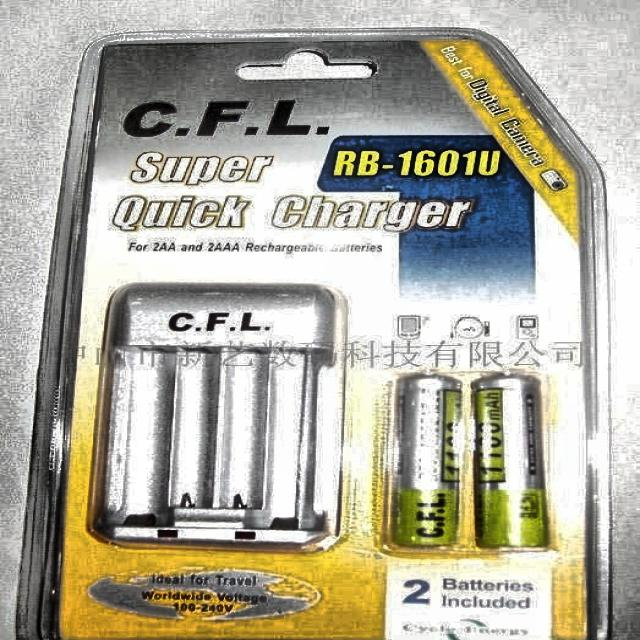Non-Valuable Waste - Batteries: (475, 375, 547, 548), (394, 375, 461, 545)
